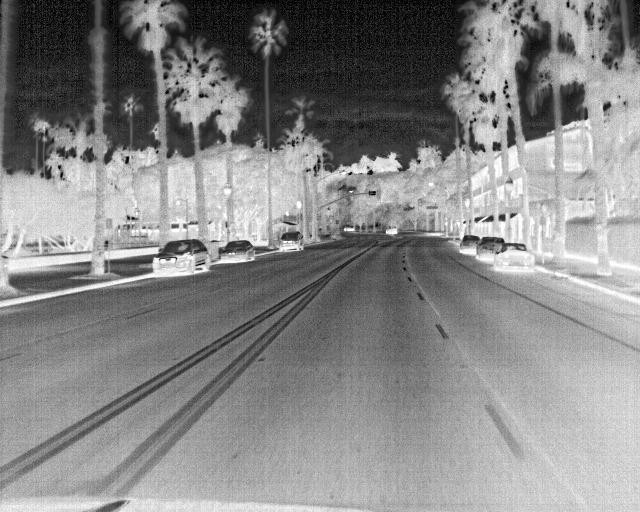car: (148, 240, 208, 276), (494, 241, 534, 269), (219, 238, 258, 265), (476, 235, 508, 259), (278, 230, 308, 251), (460, 236, 482, 256), (382, 224, 398, 236), (339, 222, 355, 234)
